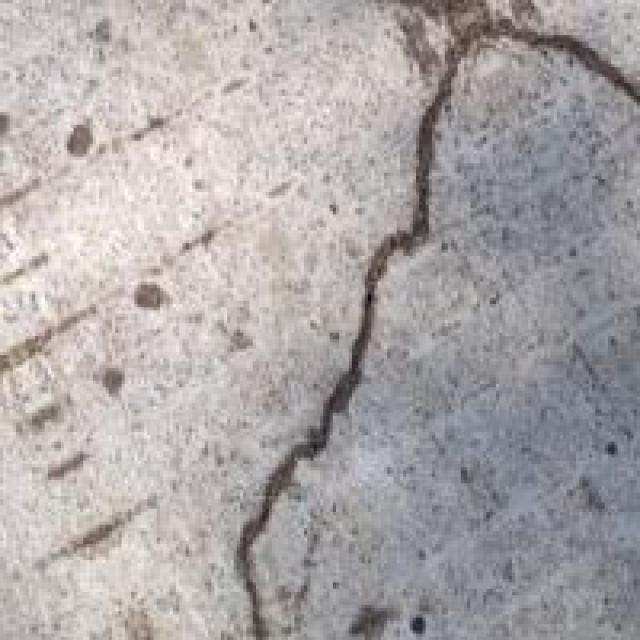crack: (208, 0, 630, 637)
